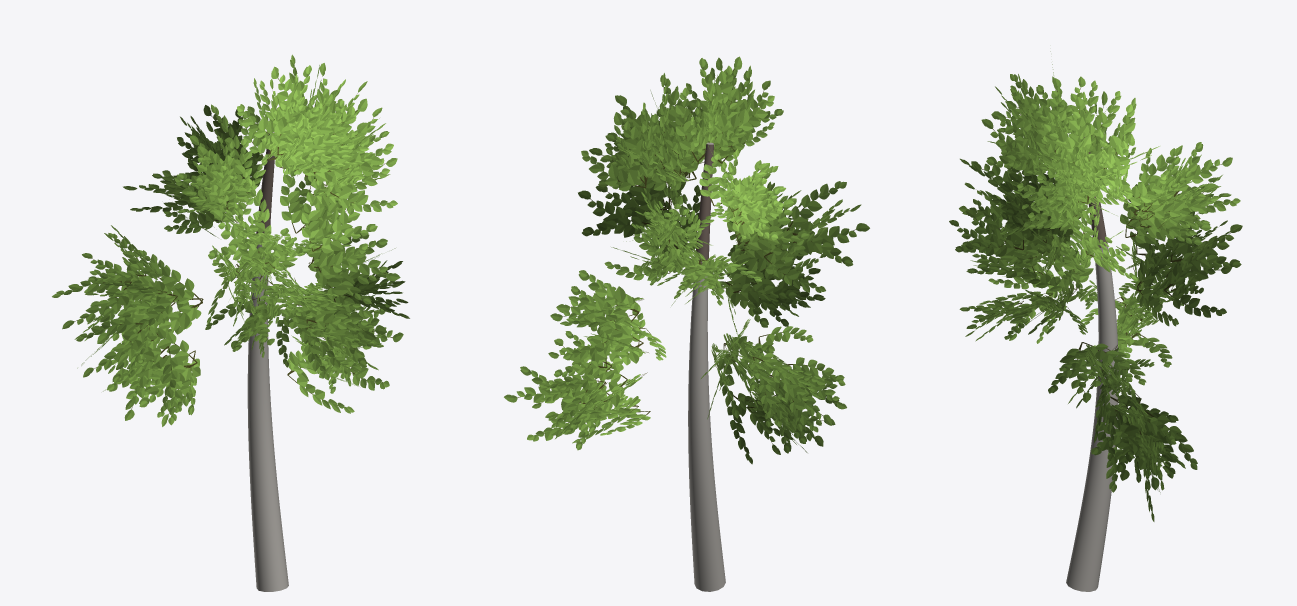
File: birch_1_mid.glb
The picture shows the model from 3 angles, left to right: view 1: azimuth 30°, elevation 25°; view 2: azimuth 150°, elevation 25°; view 3: azimuth 270°, elevation 25°; orthographic projection. The views are drawn at different scales.
Parts seen in each view (by area): view 1: birch_1_mid; view 2: birch_1_mid; view 3: birch_1_mid.
Part boxes in pixels (x1,y1,x2,y2): birch_1_mid: [52, 54, 409, 591]; birch_1_mid: [504, 56, 869, 591]; birch_1_mid: [949, 51, 1242, 591].
Size of the model in its own units: 7.49 by 10.48 by 5.98.
Materials: 3 (1 with a texture image).
